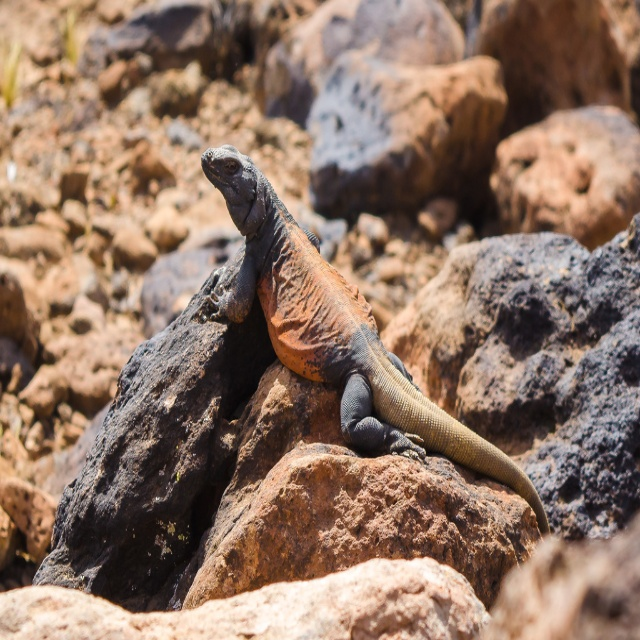Lizard: (186, 143, 539, 563)
